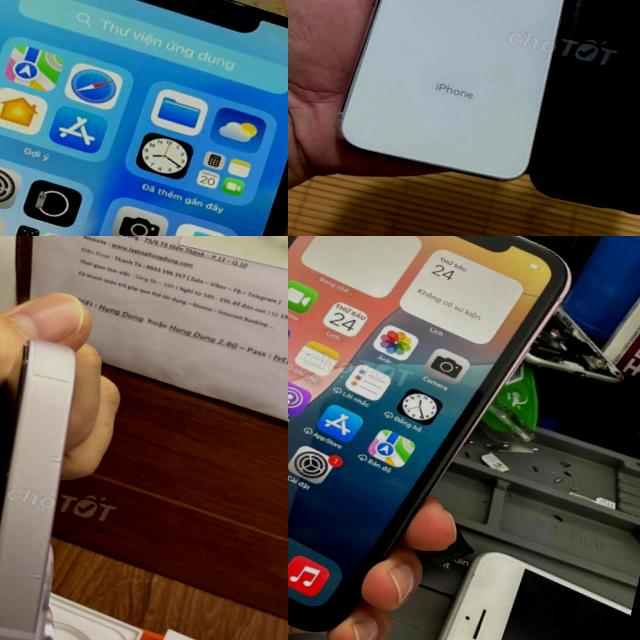gen_14: (0, 316, 140, 640)
gen_x_xs: (288, 236, 569, 629), (0, 0, 288, 236), (339, 0, 562, 179)
